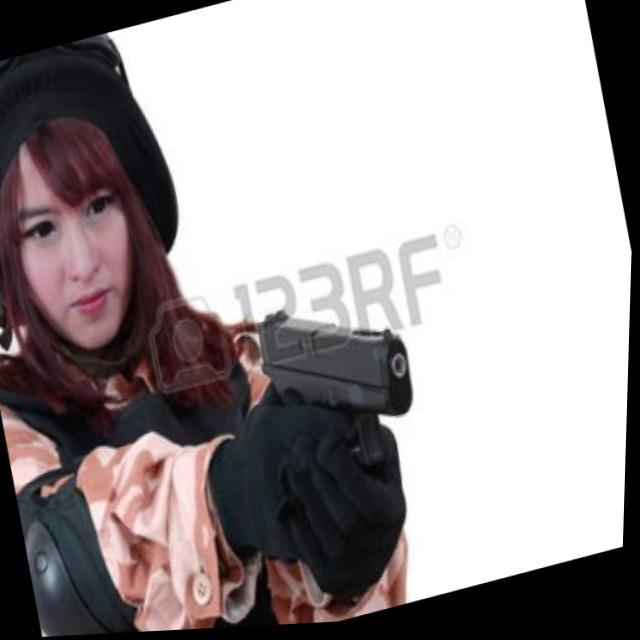weapon: (223, 278, 457, 560)
